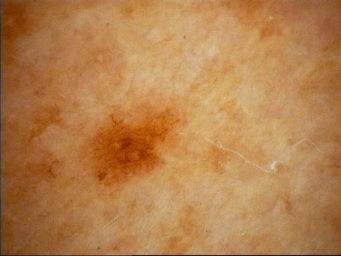nevus: (92, 110, 179, 184)
